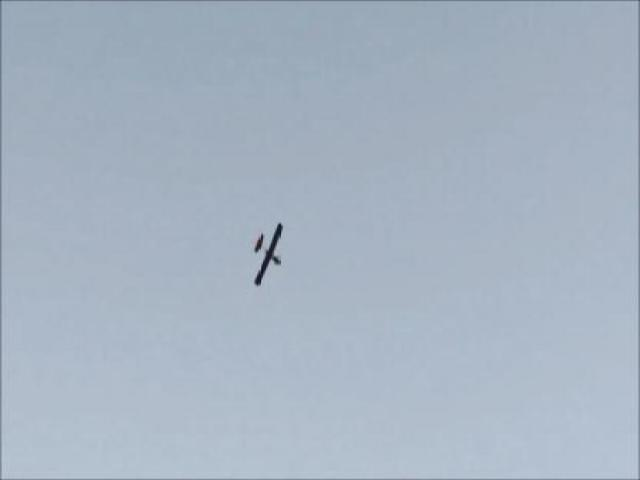uav: (242, 219, 295, 289)
